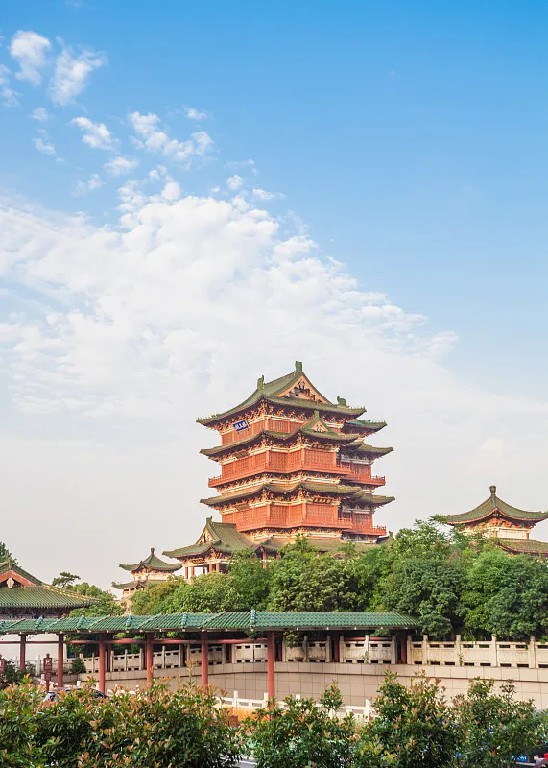Teng: (163, 362, 402, 557)
